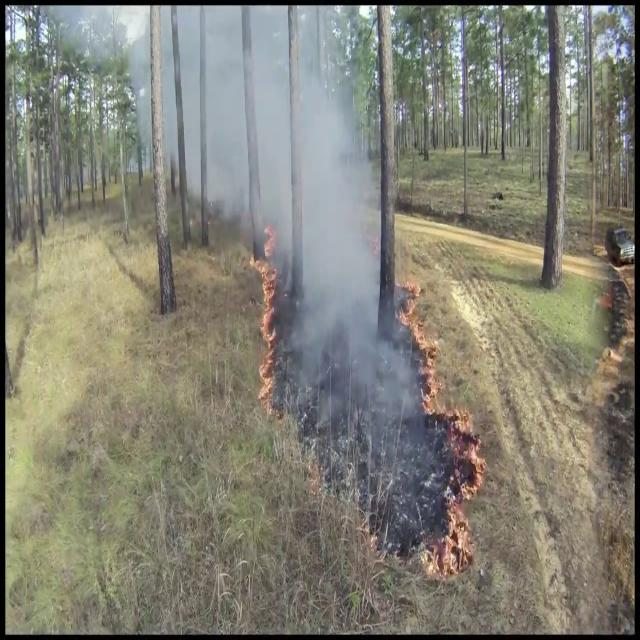Fire: (426, 404, 492, 581), (246, 225, 282, 406)
Smoke: (203, 10, 404, 469)
